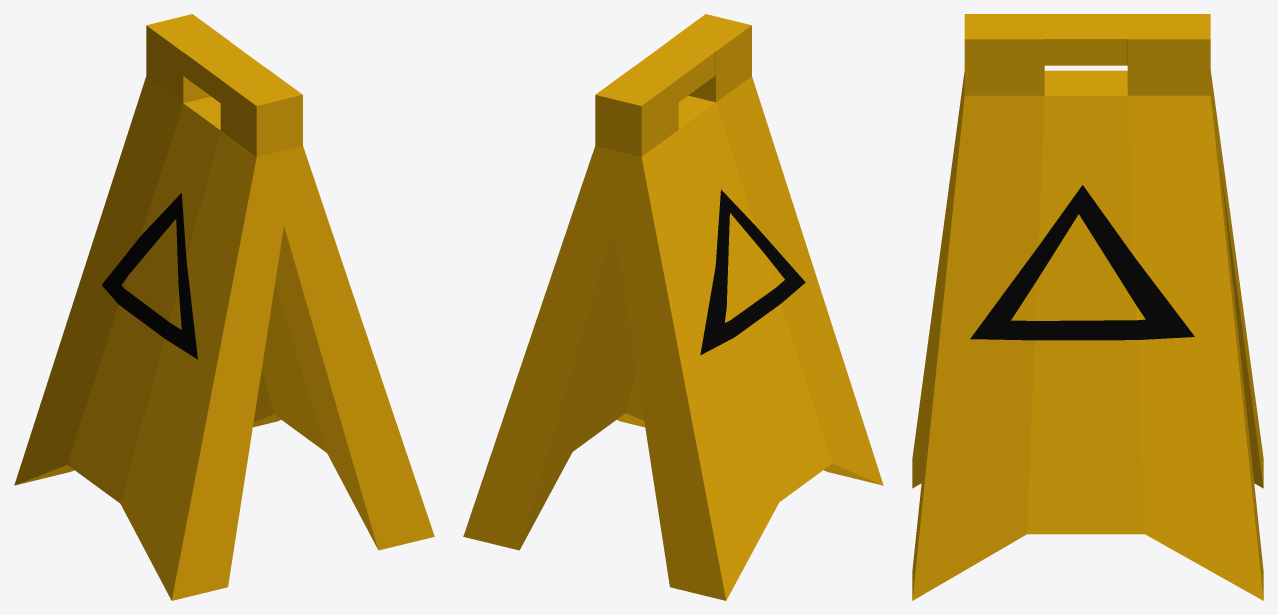
File: wetsignfloorjohnH 1.fbx
3 views of the same model, side by side, from view 1: azimuth 30°, elevation 25°; view 2: azimuth 150°, elevation 25°; view 3: azimuth 270°, elevation 25° (orthographic). The views are drawn at different scales.
Visible parts, largest first — view 1: Cube; view 2: Cube; view 3: Cube.
Boxes of the visible parts, bbox=[...] form: Cube: bbox=[14, 14, 434, 600]; Cube: bbox=[463, 14, 883, 600]; Cube: bbox=[912, 14, 1263, 600].
Bounding box in the file's own units: 250 × 409 × 259.
